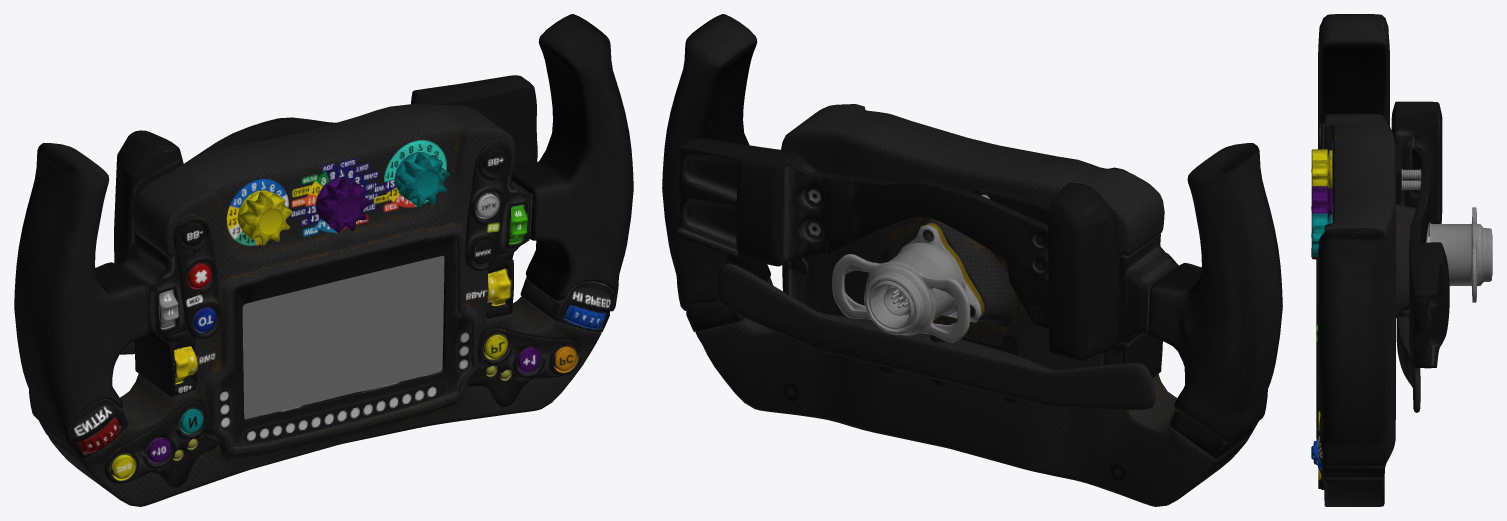
The model's file is jogo-volante-f1.glb.
3 views of the same model, side by side, from view 1: azimuth 30°, elevation 25°; view 2: azimuth 150°, elevation 25°; view 3: azimuth 270°, elevation 25° (orthographic). The views are drawn at different scales.
Visible parts, largest first — view 1: wheel_lp; view 2: wheel_lp; view 3: wheel_lp.
Part boxes in pixels (x1,y1,x2,y2): wheel_lp: (14,14,633,506); wheel_lp: (662,14,1282,506); wheel_lp: (1311,14,1492,506).
Size of the model in its own units: 1 by 0.5721 by 0.313.
1 material, 1 textured.
